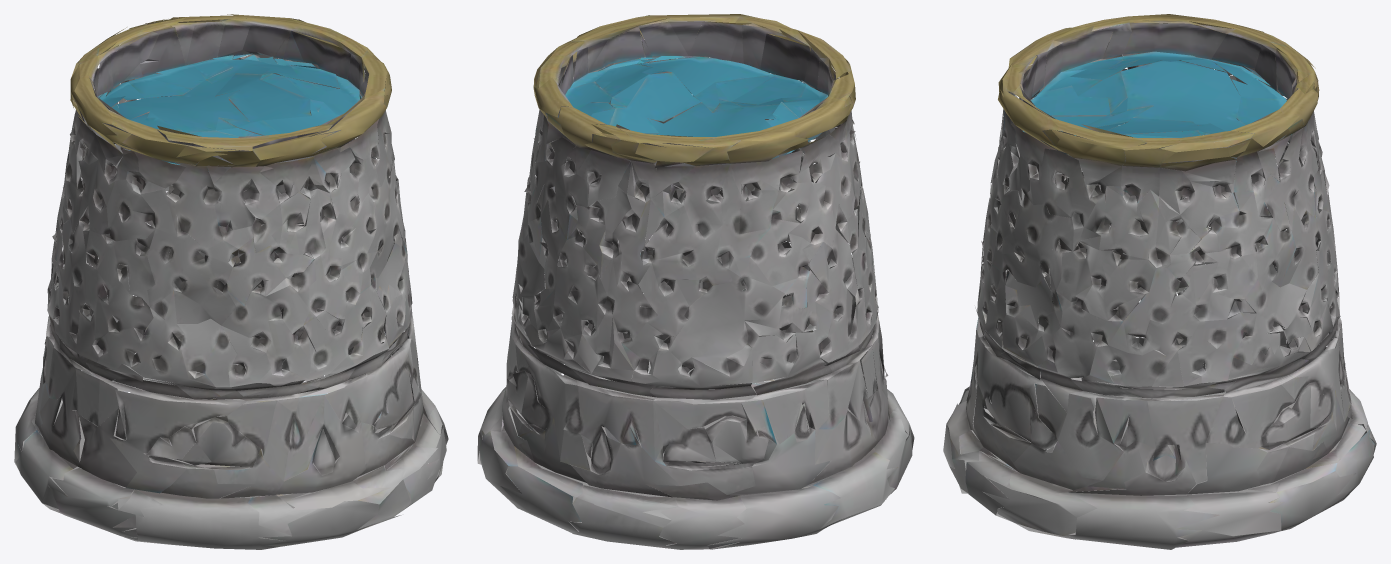
Rendered from thimble.glb.
3 views of the same model, side by side, from view 1: azimuth 30°, elevation 25°; view 2: azimuth 150°, elevation 25°; view 3: azimuth 270°, elevation 25° (orthographic).
Parts seen in each view (by area): view 1: Mesh_0; view 2: Mesh_0; view 3: Mesh_0.
Part boxes in pixels (x1,y1,x2,y2): Mesh_0: [14, 14, 448, 549]; Mesh_0: [477, 14, 914, 549]; Mesh_0: [943, 14, 1376, 549].
Bounding box in the file's own units: 0.6966 × 0.6911 × 0.7.
1 material, 1 textured.
